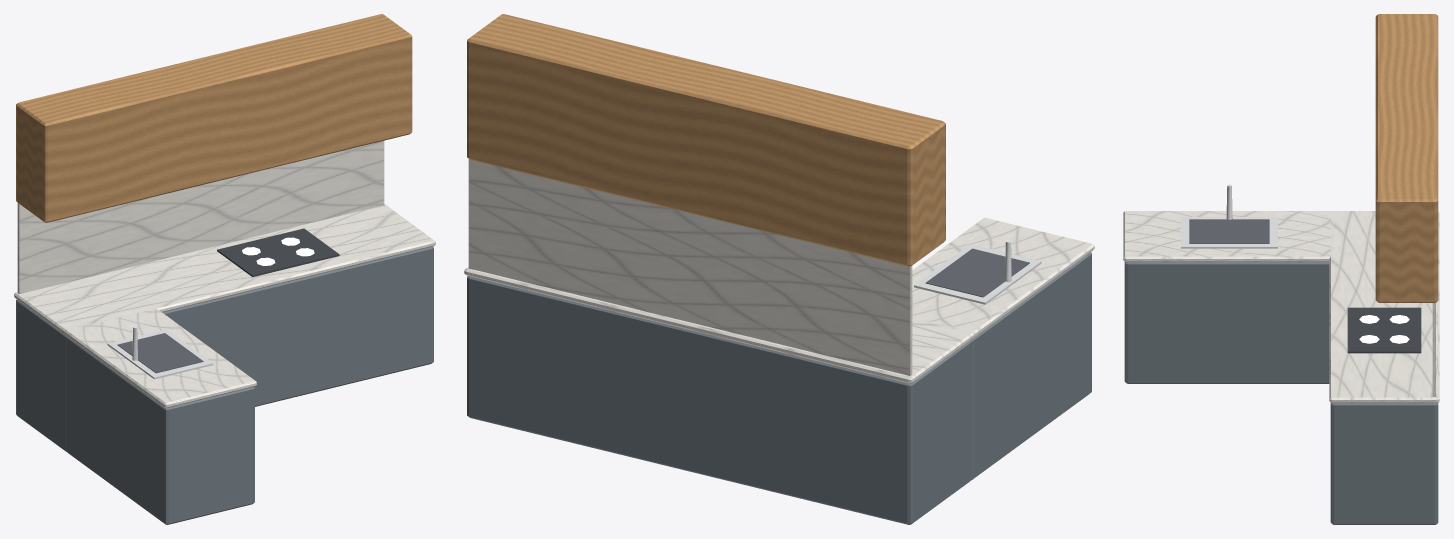
Rendered from kitchen_system_l.glb.
3 views of the same model, side by side, from view 1: azimuth 30°, elevation 25°; view 2: azimuth 150°, elevation 25°; view 3: azimuth 270°, elevation 25° (orthographic). The views are drawn at different scales.
Visible parts, largest first — view 1: kitchen_system_l_kitchenCabinet, kitchen_system_l_woodOak, kitchen_system_l_marbleCarrara, kitchen_system_l_cooktopGlass, kitchen_system_l_metalBlack, kitchen_system_l_stainlessSteel, kitchen_system_l_emissiveWarm; view 2: kitchen_system_l_kitchenCabinet, kitchen_system_l_woodOak, kitchen_system_l_marbleCarrara, kitchen_system_l_metalBlack, kitchen_system_l_stainlessSteel; view 3: kitchen_system_l_kitchenCabinet, kitchen_system_l_marbleCarrara, kitchen_system_l_woodOak, kitchen_system_l_cooktopGlass, kitchen_system_l_metalBlack, kitchen_system_l_stainlessSteel, kitchen_system_l_emissiveWarm.
Boxes of the visible parts, left/top/right/bottom form: kitchen_system_l_kitchenCabinet: left=16, top=246, right=433, bottom=524; kitchen_system_l_woodOak: left=16, top=14, right=412, bottom=222; kitchen_system_l_marbleCarrara: left=14, top=140, right=435, bottom=407; kitchen_system_l_cooktopGlass: left=217, top=228, right=339, bottom=277; kitchen_system_l_metalBlack: left=117, top=333, right=203, bottom=373; kitchen_system_l_stainlessSteel: left=107, top=329, right=213, bottom=379; kitchen_system_l_emissiveWarm: left=242, top=237, right=314, bottom=265; kitchen_system_l_kitchenCabinet: left=467, top=252, right=1091, bottom=524; kitchen_system_l_woodOak: left=467, top=14, right=945, bottom=266; kitchen_system_l_marbleCarrara: left=464, top=159, right=1094, bottom=383; kitchen_system_l_metalBlack: left=925, top=248, right=1029, bottom=297; kitchen_system_l_stainlessSteel: left=914, top=244, right=1041, bottom=304; kitchen_system_l_kitchenCabinet: left=1124, top=262, right=1438, bottom=524; kitchen_system_l_marbleCarrara: left=1123, top=211, right=1439, bottom=403; kitchen_system_l_woodOak: left=1375, top=14, right=1438, bottom=302; kitchen_system_l_cooktopGlass: left=1347, top=307, right=1421, bottom=353; kitchen_system_l_metalBlack: left=1189, top=219, right=1269, bottom=243; kitchen_system_l_stainlessSteel: left=1181, top=217, right=1277, bottom=248; kitchen_system_l_emissiveWarm: left=1359, top=315, right=1409, bottom=343.
Size of what is drawn, in the model's own units: 2.6 by 2.1 by 1.85.
8 materials, 2 textured.
